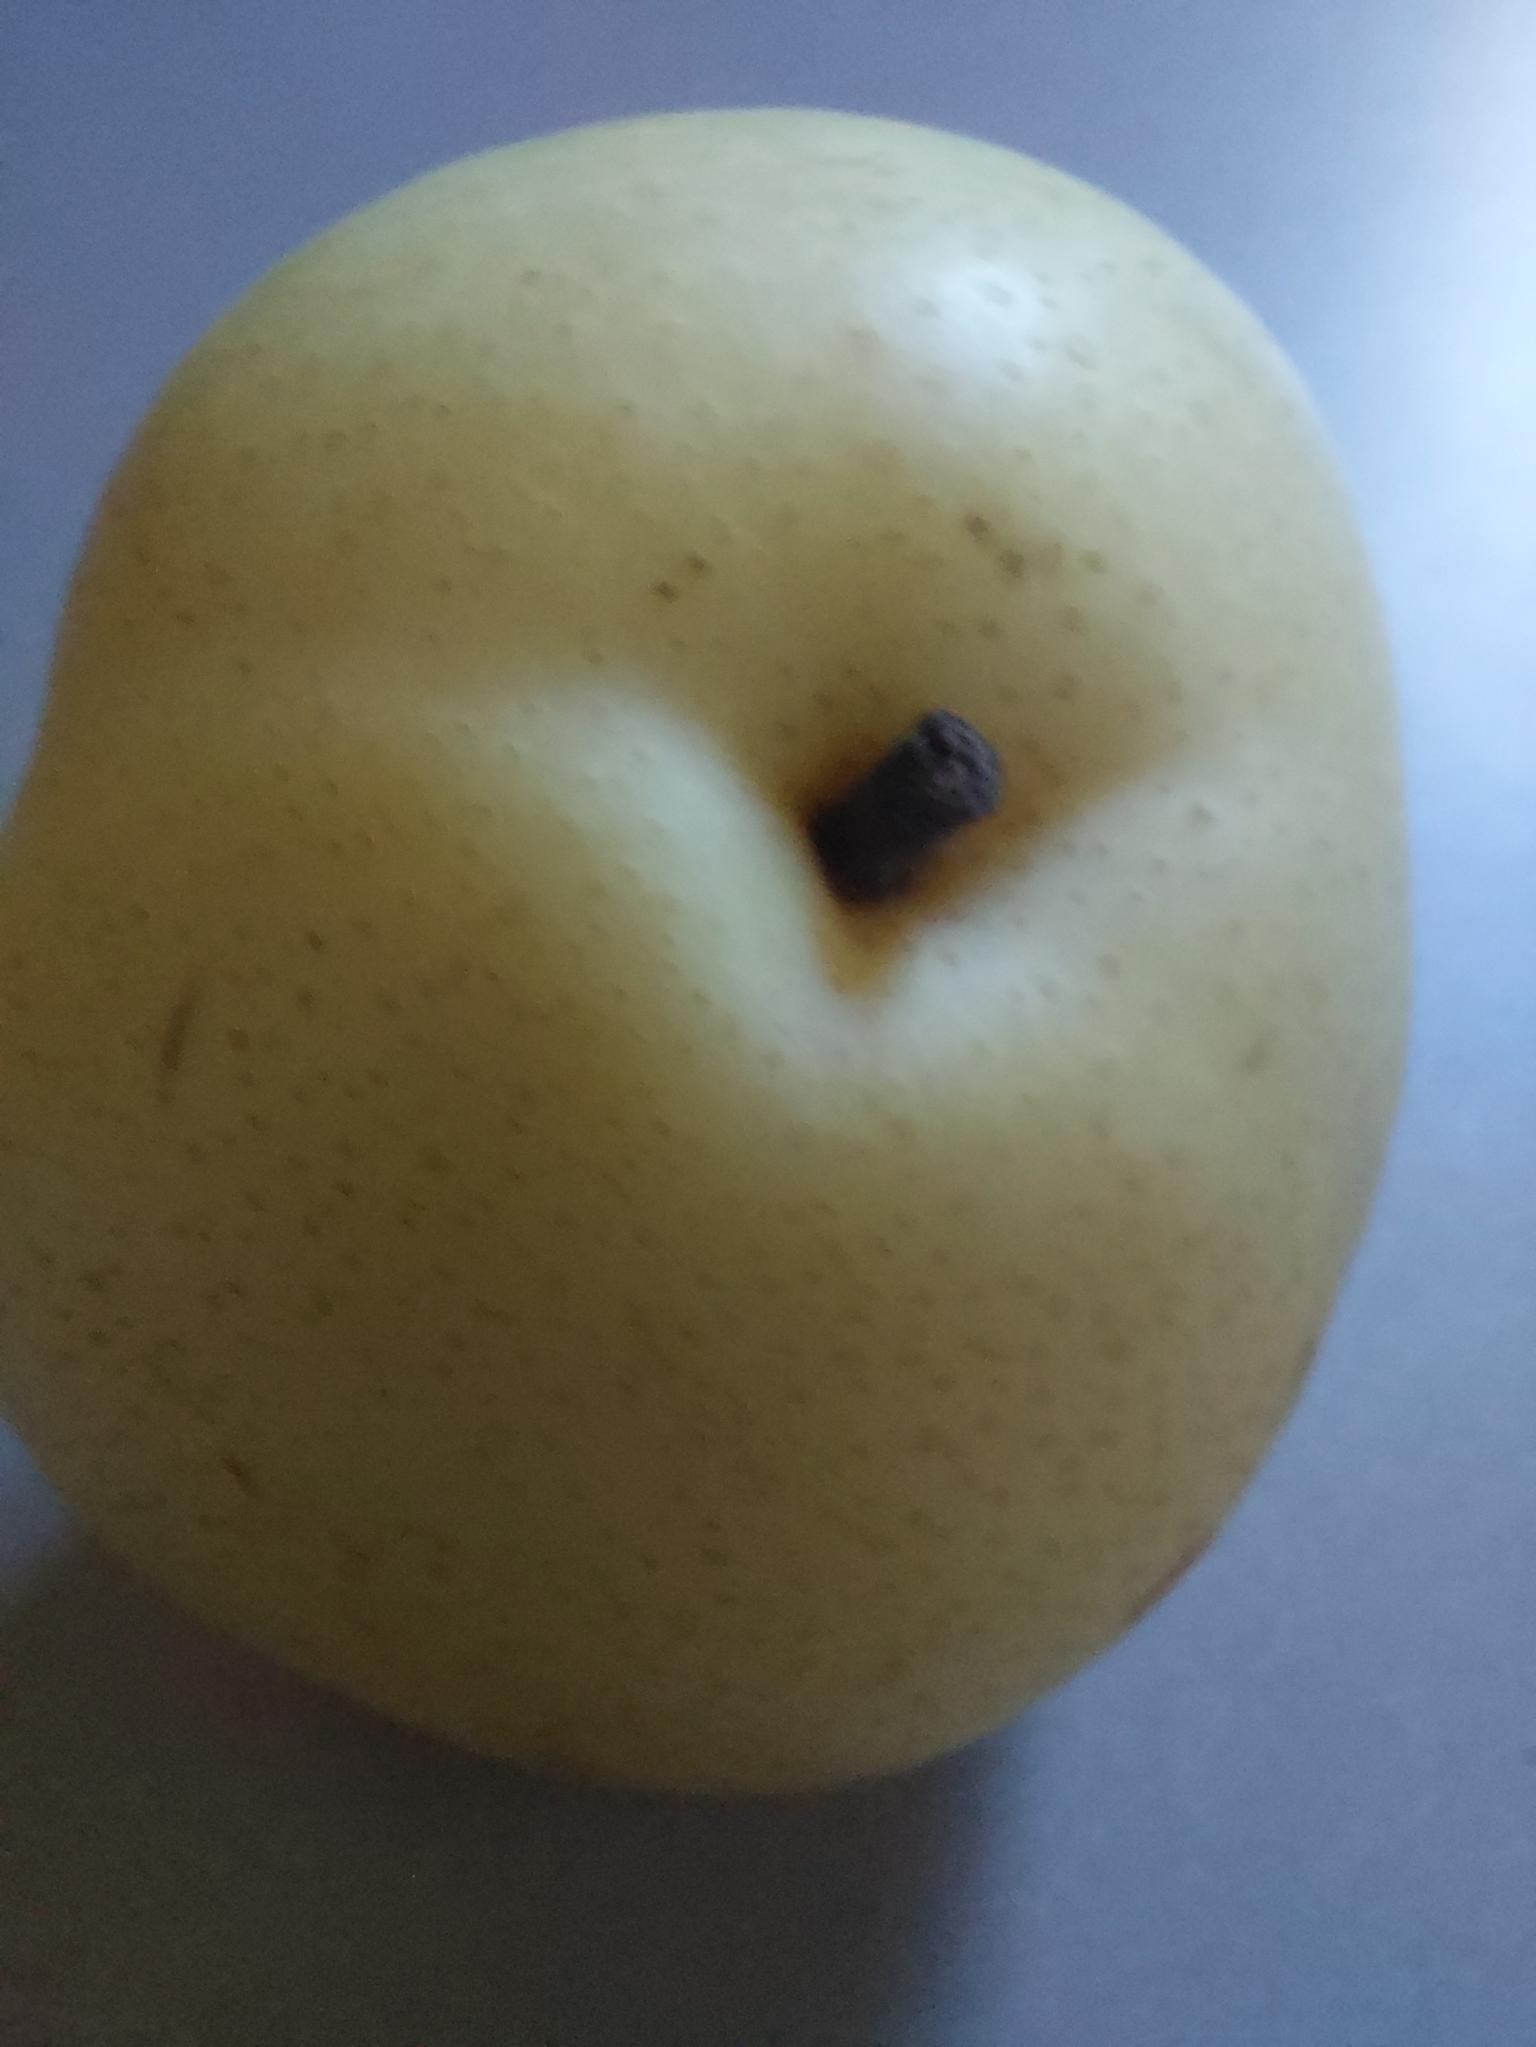Good Pear: (0, 92, 1470, 1800)
